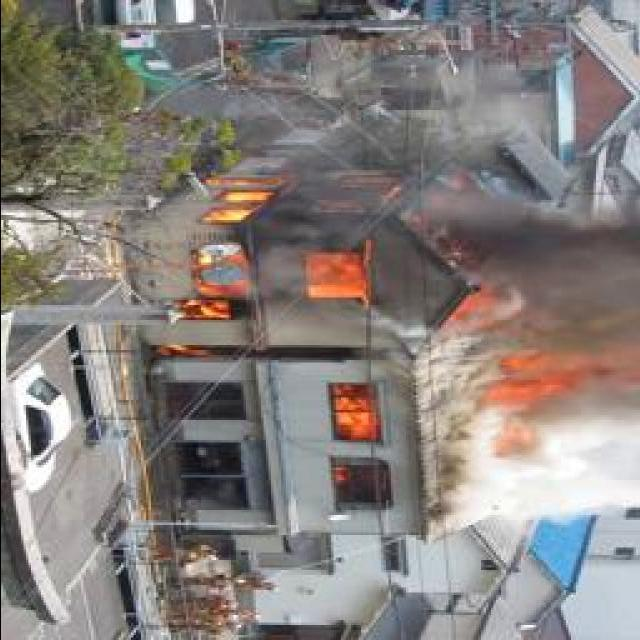Fire: (148, 166, 420, 366), (488, 342, 565, 454), (328, 390, 374, 488)
